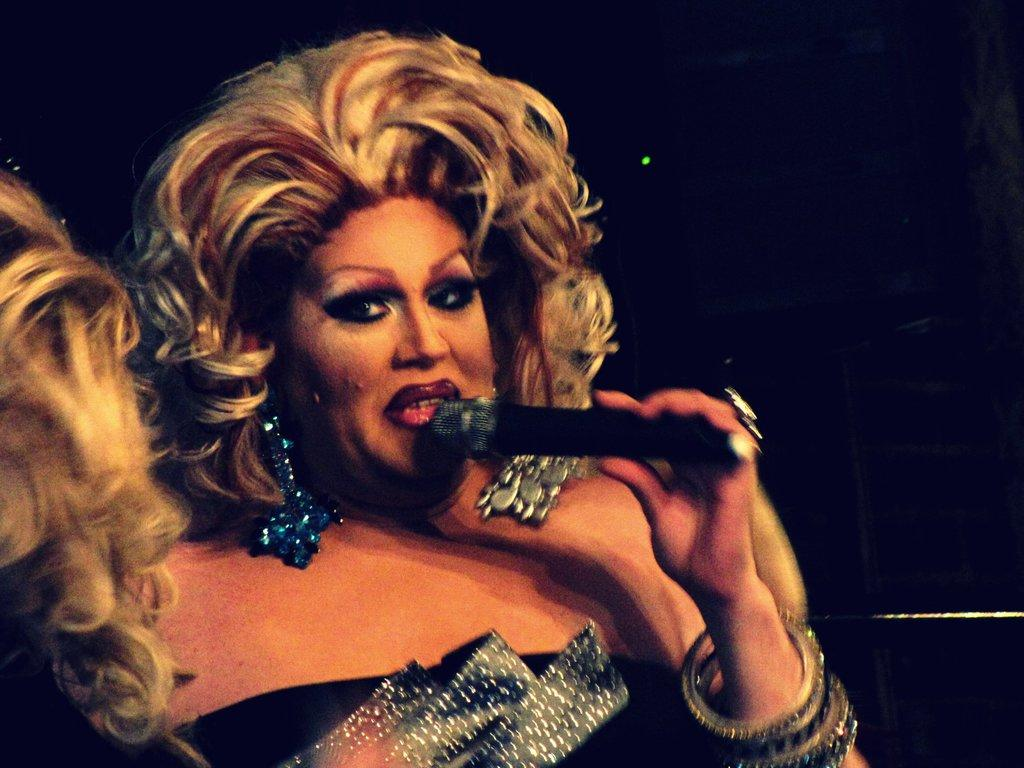Sem Máscara: (272, 188, 490, 491)
